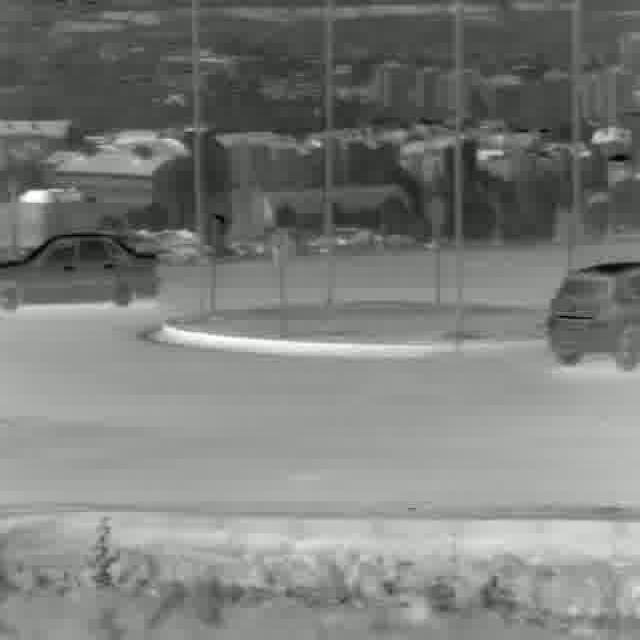Car: (0, 225, 158, 316), (538, 260, 638, 371)
